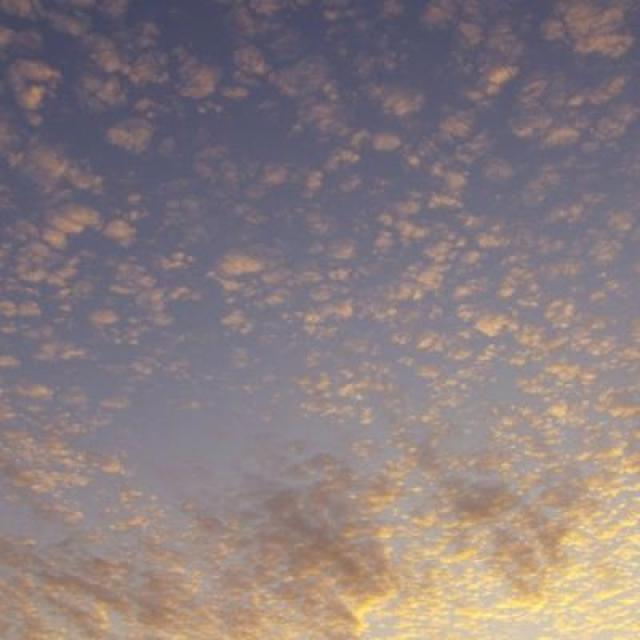Ac: (2, 37, 640, 599)
